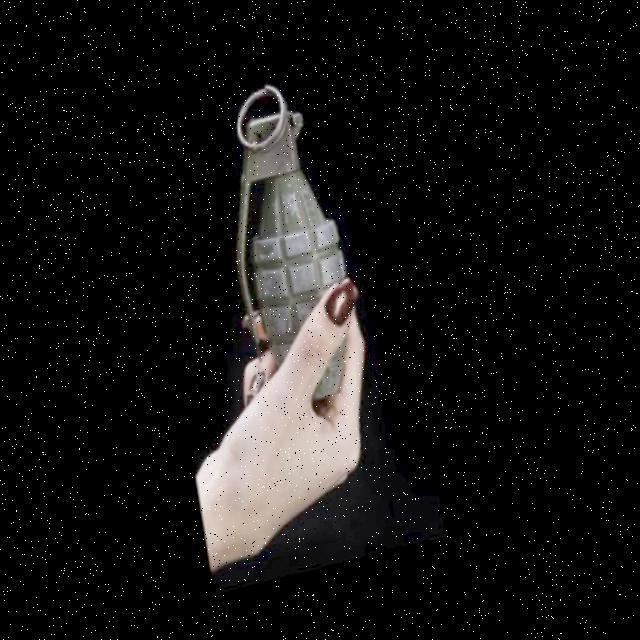grenade: (184, 48, 387, 424)
